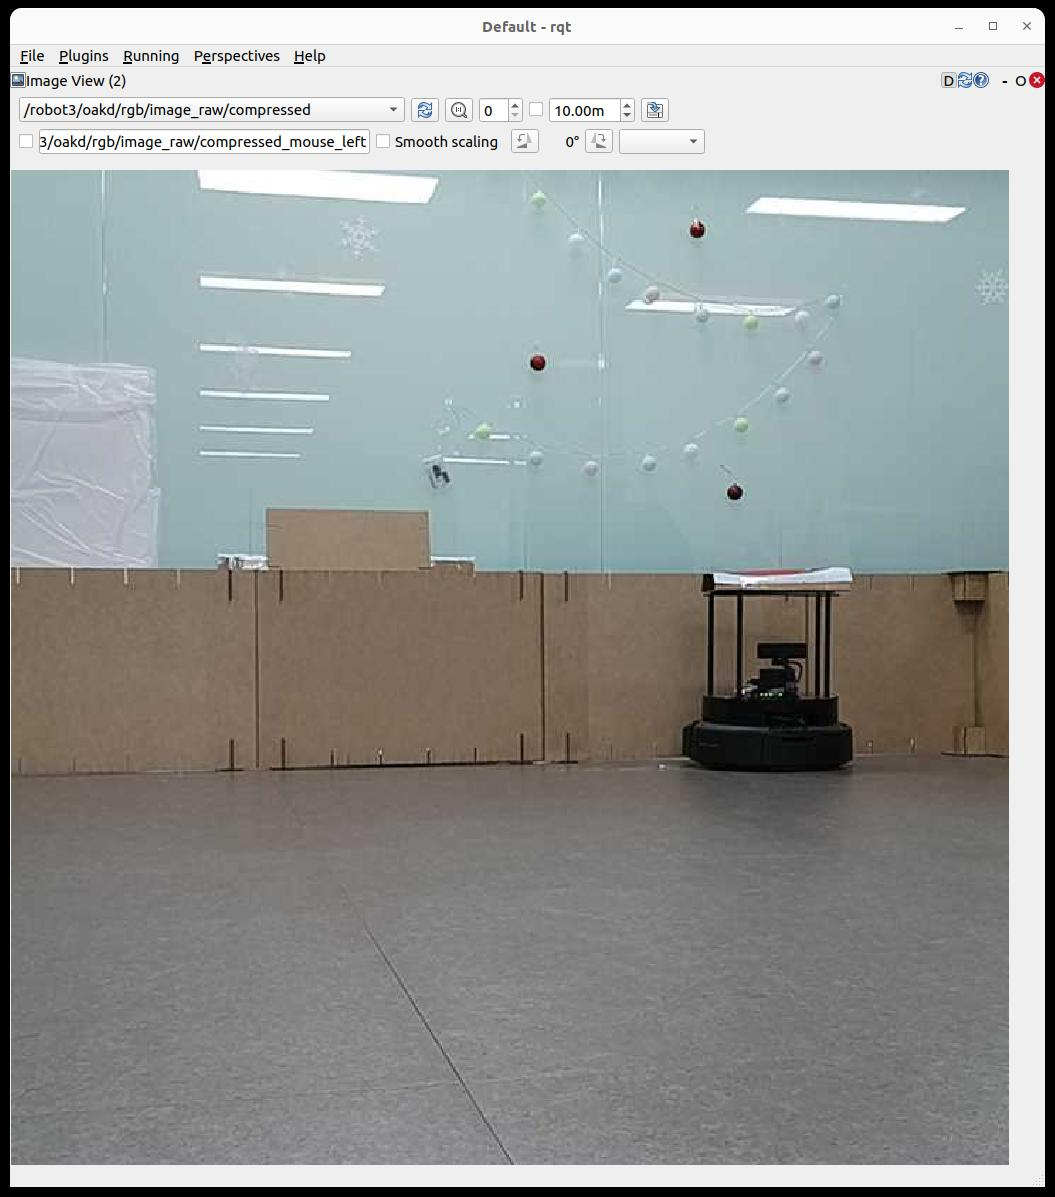AED: (703, 567, 852, 592)
Robot: (683, 591, 852, 769)
